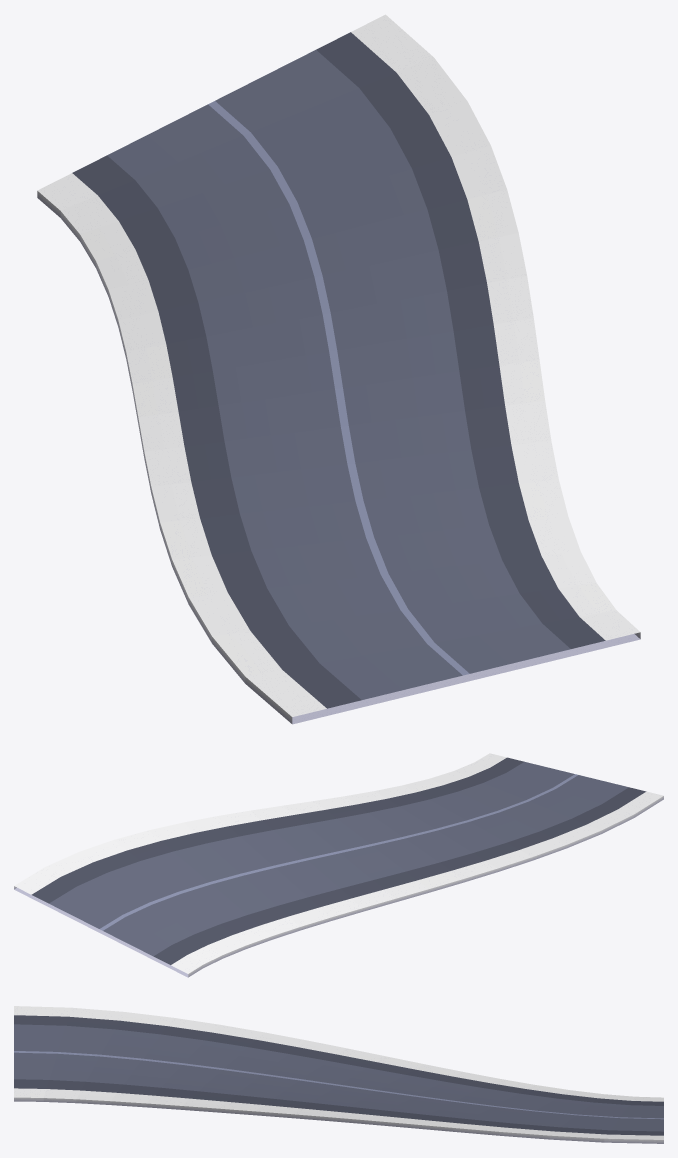
Rendered from road-Chicane-Flat-HalfBankedLeft-Even-Right1-Size3.glb.
3 renders of one model, top to bottom at view 1: azimuth 30°, elevation 25°; view 2: azimuth 150°, elevation 25°; view 3: azimuth 270°, elevation 25°, orthographic. The views are drawn at different scales.
Parts seen in each view (by area): view 1: road-Chicane-Flat-HalfBankedLeft-Even-Right1-Size3; view 2: road-Chicane-Flat-HalfBankedLeft-Even-Right1-Size3; view 3: road-Chicane-Flat-HalfBankedLeft-Even-Right1-Size3.
Part boxes in pixels (x1,y1,x2,y2): road-Chicane-Flat-HalfBankedLeft-Even-Right1-Size3: [37, 14, 640, 724]; road-Chicane-Flat-HalfBankedLeft-Even-Right1-Size3: [14, 753, 663, 977]; road-Chicane-Flat-HalfBankedLeft-Even-Right1-Size3: [14, 1006, 663, 1143].
Size of the model in its own units: 2 by 0.27 by 3.
Materials: 1 (1 with a texture image).
